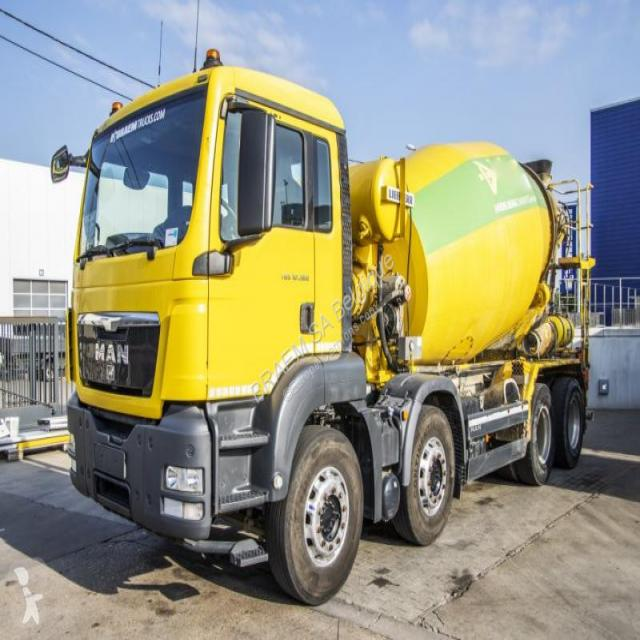Mixer Truck: (66, 67, 595, 605)
